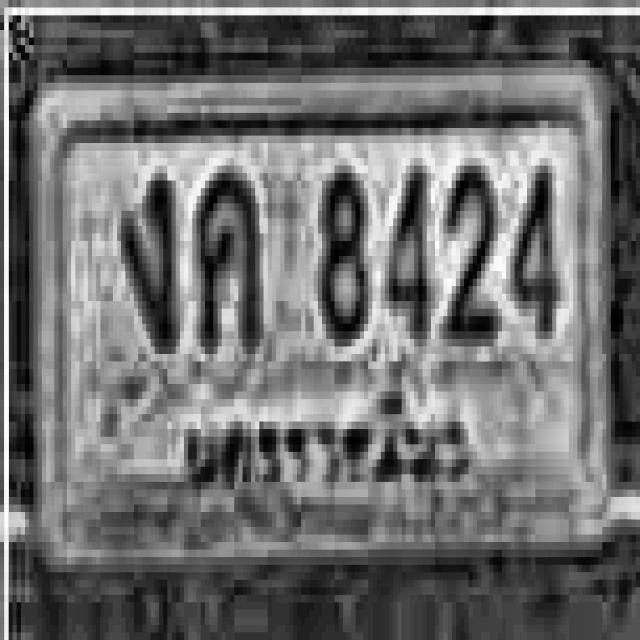license-plate: (25, 61, 620, 578)
